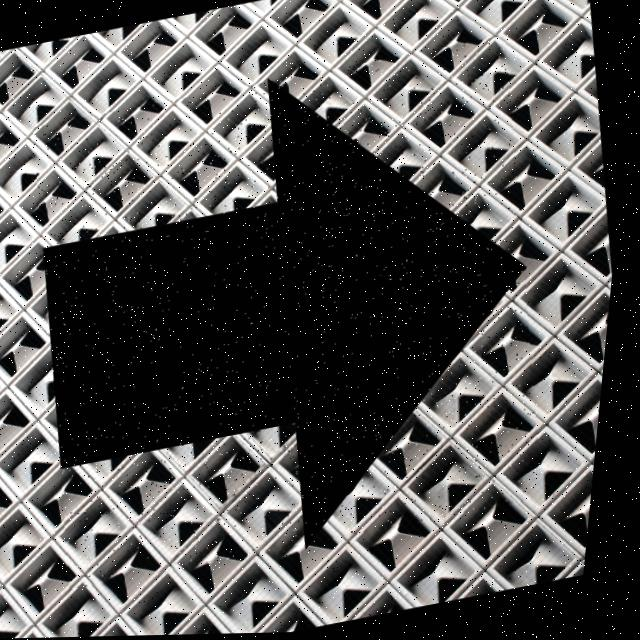RIGHT: (49, 83, 529, 544)
